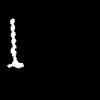half_double_crochet: (8, 19, 23, 67)
